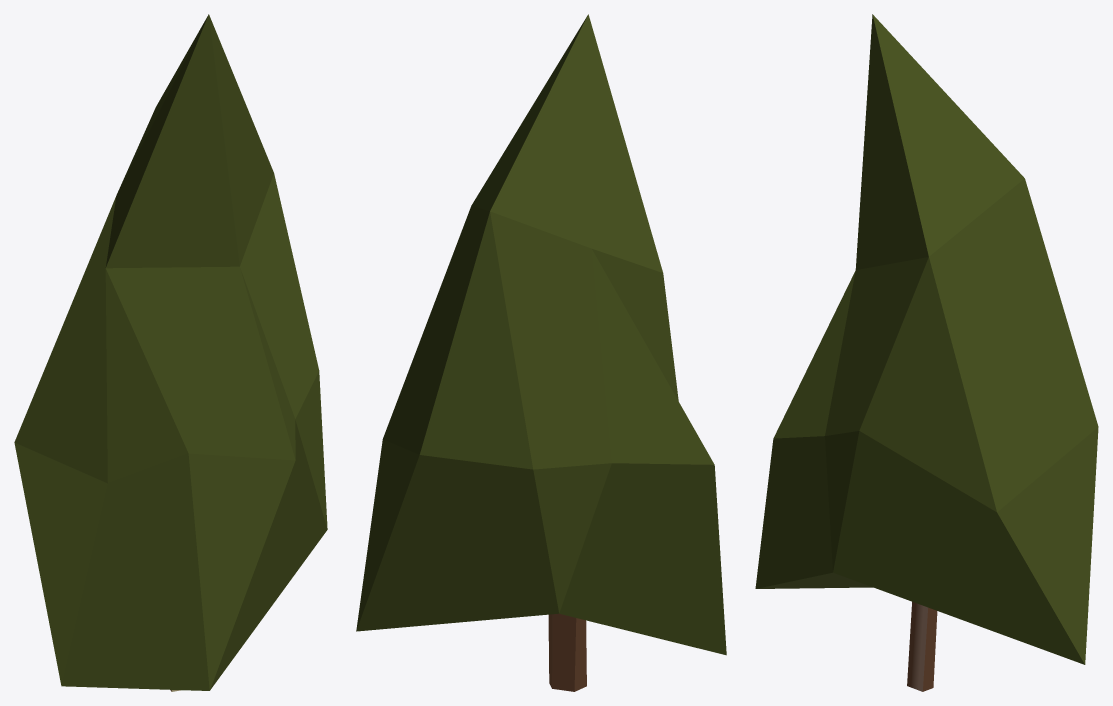
The model's file is TreeAutumn8_Alt1.fbx.
3 views of the same model, side by side, from view 1: azimuth 30°, elevation 25°; view 2: azimuth 150°, elevation 25°; view 3: azimuth 270°, elevation 25° (orthographic). The views are drawn at different scales.
Visible parts, largest first — view 1: TreeAutumn8_Alt1; view 2: TreeAutumn8_Alt1; view 3: TreeAutumn8_Alt1.
Part boxes in pixels (left/top/right/bottom): TreeAutumn8_Alt1: left=14, top=14, right=327, bottom=691; TreeAutumn8_Alt1: left=356, top=14, right=726, bottom=691; TreeAutumn8_Alt1: left=755, top=14, right=1098, bottom=691.
Size of the model in its own units: 1.32 by 2.74 by 1.27.
